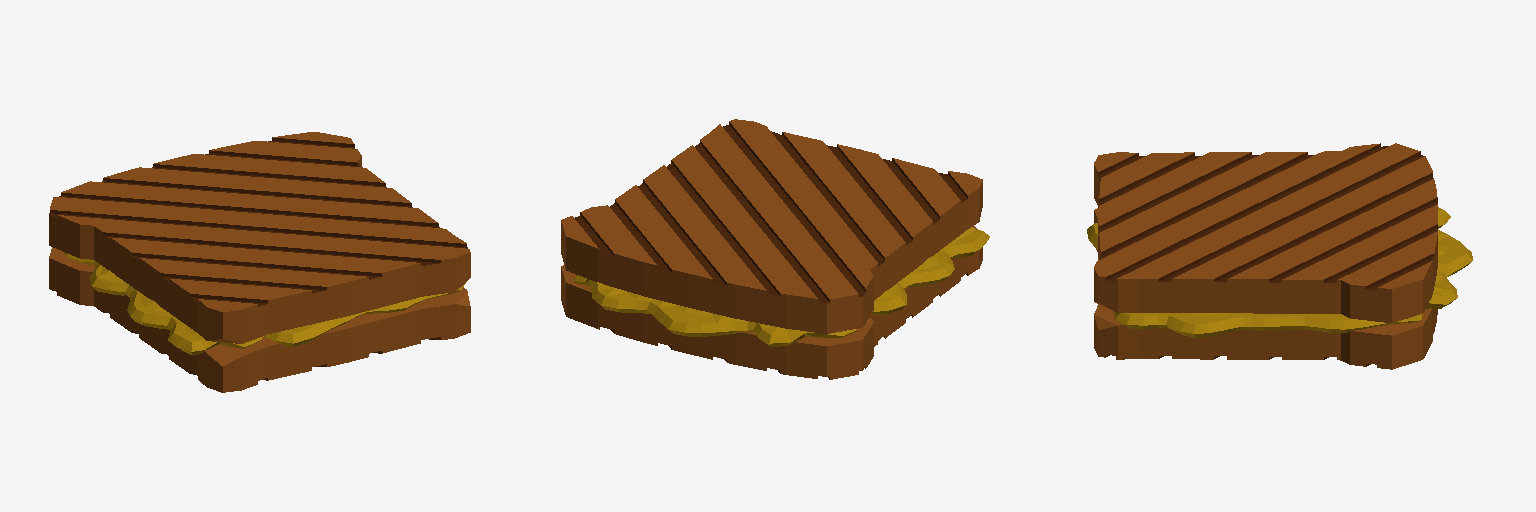
Rendered from GrilledCheese.obj.
The picture shows the model from 3 angles: view 1: azimuth 30°, elevation 25°; view 2: azimuth 150°, elevation 25°; view 3: azimuth 270°, elevation 25°; orthographic projection.
Parts seen in each view (by area): view 1: Plane.000_Plane.003; view 2: Plane.000_Plane.003; view 3: Plane.000_Plane.003.
Part boxes in pixels (bbox=[...]): Plane.000_Plane.003: bbox=[49, 132, 470, 392]; Plane.000_Plane.003: bbox=[561, 119, 989, 379]; Plane.000_Plane.003: bbox=[1087, 143, 1472, 369].
Size of the model in its own units: 6.82 by 1.7 by 7.41.